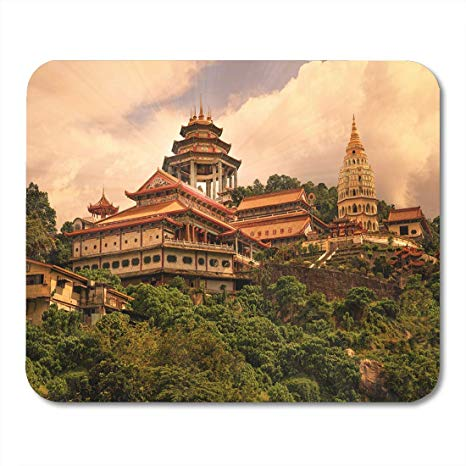Buddhist Temple: (74, 92, 391, 271)
